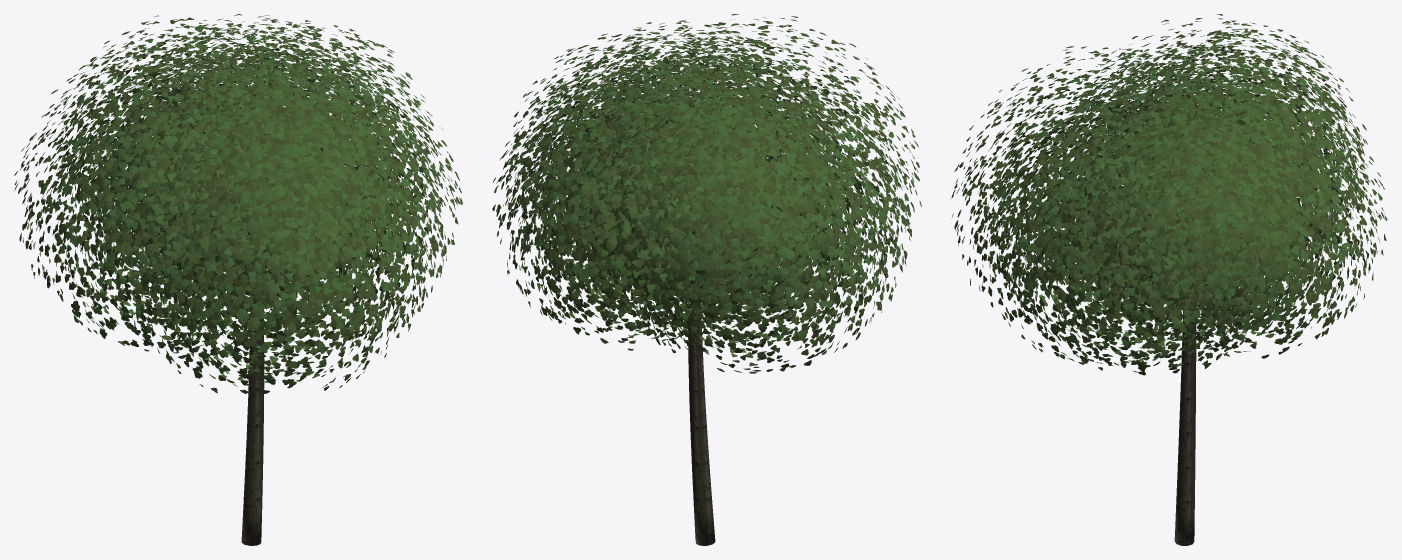
The model's file is ER_Arbre_Feuillu_Geant_22m.gltf.
3 renders of one model, left to right at view 1: azimuth 30°, elevation 25°; view 2: azimuth 150°, elevation 25°; view 3: azimuth 270°, elevation 25°, orthographic. The views are drawn at different scales.
Parts seen in each view (by area): view 1: ER_Arbre_Feuillu_Geant_22m_FEU3.001, ER_Arbre_Feuillu_Geant_22m_ECO.001; view 2: ER_Arbre_Feuillu_Geant_22m_FEU3.001, ER_Arbre_Feuillu_Geant_22m_ECO.001; view 3: ER_Arbre_Feuillu_Geant_22m_FEU3.001, ER_Arbre_Feuillu_Geant_22m_ECO.001.
Boxes of the visible parts, x1=… form: ER_Arbre_Feuillu_Geant_22m_FEU3.001: x1=14, y1=14, x2=462, y2=393; ER_Arbre_Feuillu_Geant_22m_ECO.001: x1=191, y1=150, x2=264, y2=545; ER_Arbre_Feuillu_Geant_22m_FEU3.001: x1=492, y1=14, x2=921, y2=373; ER_Arbre_Feuillu_Geant_22m_ECO.001: x1=688, y1=280, x2=715, y2=545; ER_Arbre_Feuillu_Geant_22m_FEU3.001: x1=950, y1=14, x2=1387, y2=375; ER_Arbre_Feuillu_Geant_22m_ECO.001: x1=1174, y1=292, x2=1196, y2=545.
Bounding box in the file's own units: 13.72 × 17.56 × 14.15.
Materials: 2 (1 with a texture image).
